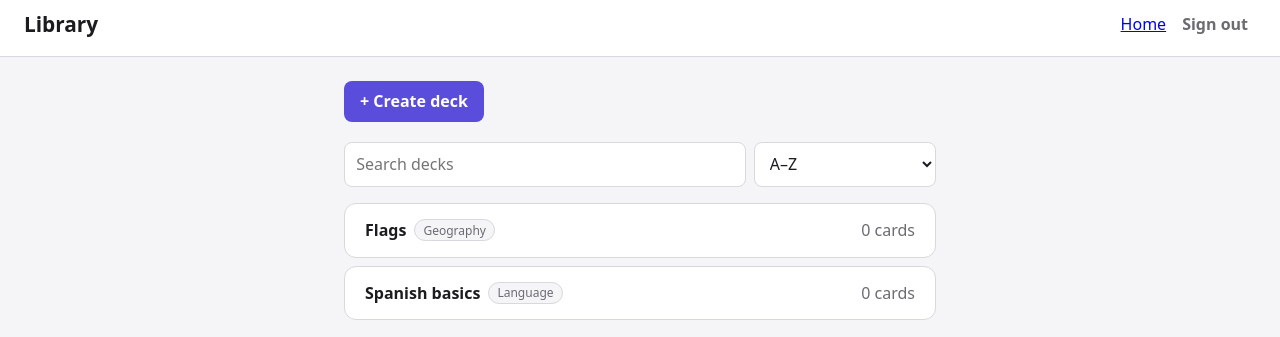
Test: LibraryPage › shows a deck category label and matches it in search
The width and height of the screenshot is (1280, 337).
Expected: the text "Geography" is shown, [414,219,495,241]
Searching by a tag matches the deck even though its title doesn't contain the query.
In the search field labelled "Search decks": (545, 164) [344,142,746,187], type "geo"
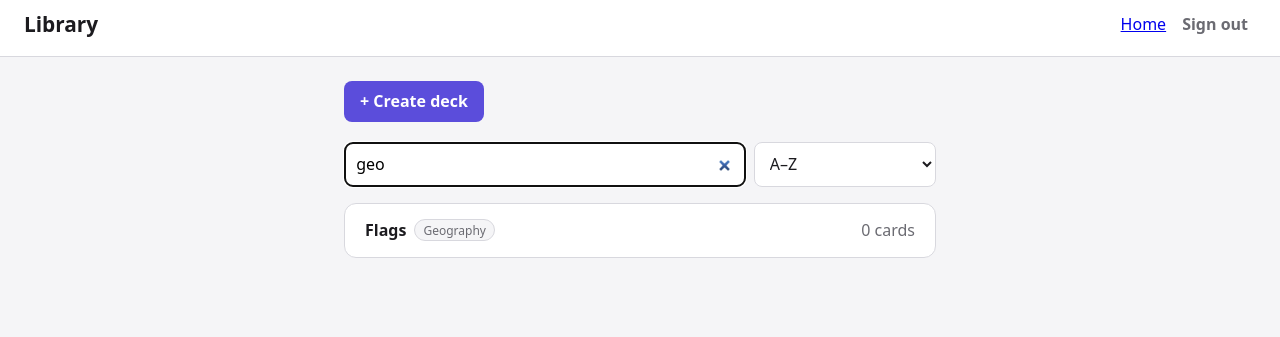
Expected: the text "Flags" is shown, [365,219,406,241]
Expected: the button "Spanish basics" is gone
